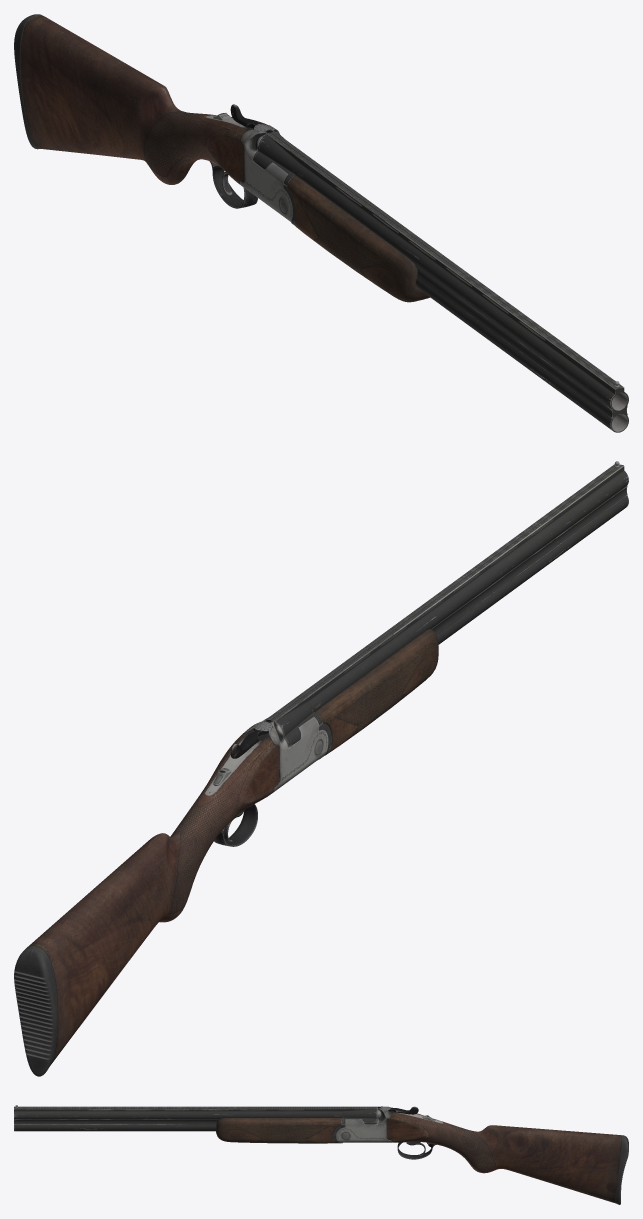
File: Olympia.fbx
The picture shows the model from 3 angles, top to bottom: view 1: azimuth 30°, elevation 25°; view 2: azimuth 150°, elevation 25°; view 3: azimuth 270°, elevation 25°; orthographic projection. The views are drawn at different scales.
Parts seen in each view (by area): view 1: other\barrels.smd, other\stock.smd, other\Olympia.smd; view 2: other\stock.smd, other\barrels.smd, other\Olympia.smd; view 3: other\stock.smd, other\barrels.smd, other\Olympia.smd.
Boxes of the visible parts, <box> form: other\barrels.smd: <box>253,131,628,432</box>; other\stock.smd: <box>14,14,268,184</box>; other\Olympia.smd: <box>205,104,292,221</box>; other\stock.smd: <box>14,732,279,1076</box>; other\barrels.smd: <box>264,461,628,759</box>; other\Olympia.smd: <box>204,717,328,846</box>; other\stock.smd: <box>386,1113,628,1204</box>; other\barrels.smd: <box>14,1105,377,1143</box>; other\Olympia.smd: <box>336,1106,443,1159</box>.
Bounding box in the file's own units: 5.82 × 25.61 × 143.
5 materials, 5 textured.
